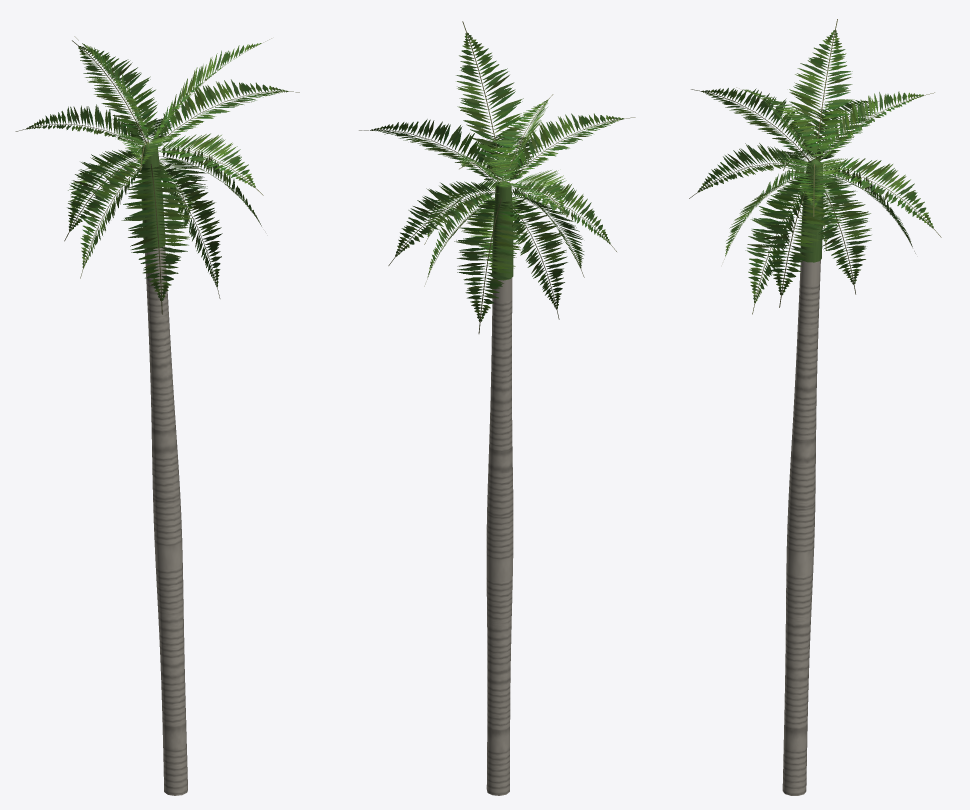
File: veg_royal_palm_a.fbx
3 renders of one model, left to right at view 1: azimuth 30°, elevation 25°; view 2: azimuth 150°, elevation 25°; view 3: azimuth 270°, elevation 25°, orthographic. The views are drawn at different scales.
Visible parts, largest first — view 1: veg_royal_palm_a_LOD0; view 2: veg_royal_palm_a_LOD0; view 3: veg_royal_palm_a_LOD0.
Boxes of the visible parts, box(x1,y1,x2,y2) form: veg_royal_palm_a_LOD0: box(15, 36, 299, 795); veg_royal_palm_a_LOD0: box(359, 21, 635, 795); veg_royal_palm_a_LOD0: box(689, 19, 941, 795).
Size of what is drawn, in the model's own units: 7.5 by 20.69 by 7.09.
Materials: 2 (2 with a texture image).
